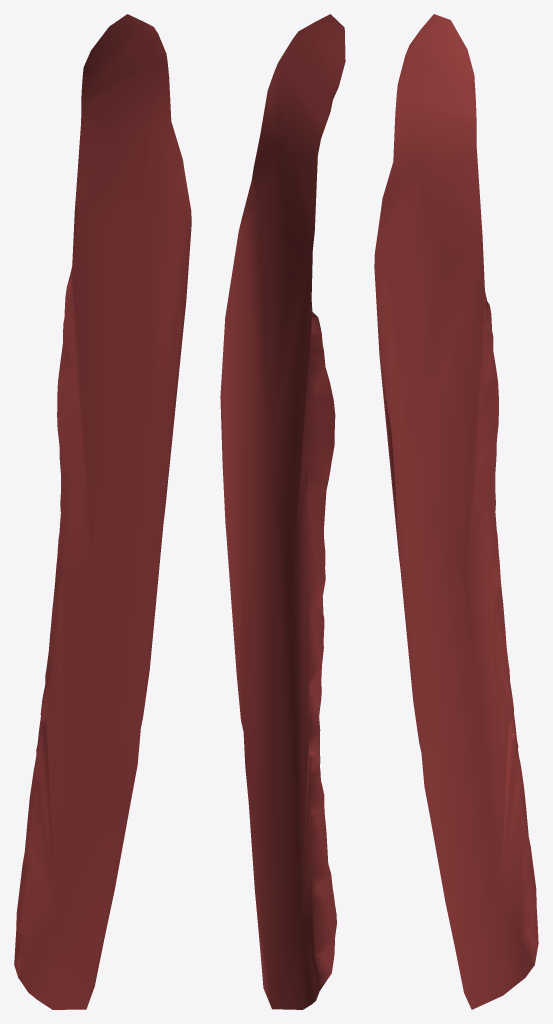
Rendered from tibialis-anterior-muscle-or.glb.
3 views of the same model, side by side, from view 1: azimuth 90°, elevation 25°; view 2: azimuth 210°, elevation 25°; view 3: azimuth 270°, elevation 25° (orthographic). The views are drawn at different scales.
Parts seen in each view (by area): view 1: Tibialis anterior muscle.or; view 2: Tibialis anterior muscle.or; view 3: Tibialis anterior muscle.or.
Boxes of the visible parts, left/top/right/bottom form: Tibialis anterior muscle.or: left=14, top=14, right=191, bottom=1009; Tibialis anterior muscle.or: left=220, top=14, right=345, bottom=1009; Tibialis anterior muscle.or: left=374, top=14, right=538, bottom=1009.
Bounding box in the file's own units: 0.0245 × 0.238 × 0.037.
